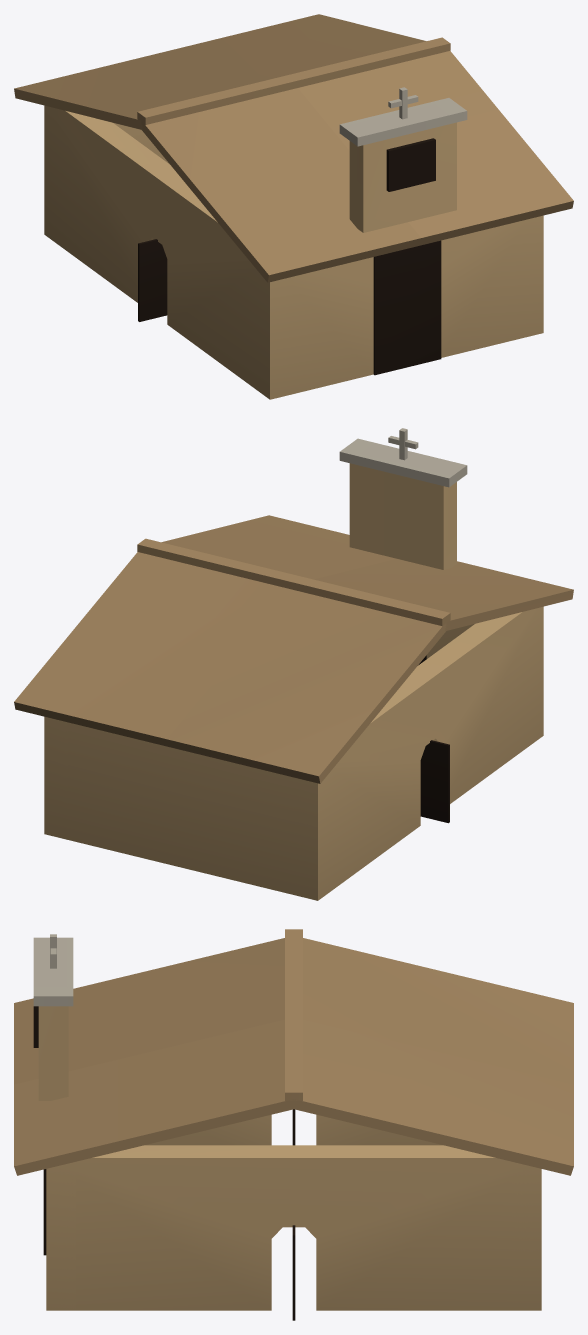
File: republic_chapel_lod1.glb
3 views of the same model, one above another, from view 1: azimuth 30°, elevation 25°; view 2: azimuth 150°, elevation 25°; view 3: azimuth 270°, elevation 25° (orthographic). The views are drawn at different scales.
Visible parts, largest first — view 1: GEO-Arch_republic_chapel_LOD1; view 2: GEO-Arch_republic_chapel_LOD1; view 3: GEO-Arch_republic_chapel_LOD1.
Part boxes in pixels (x1,y1,x2,y2): GEO-Arch_republic_chapel_LOD1: (14,14,573,399); GEO-Arch_republic_chapel_LOD1: (14,428,573,900); GEO-Arch_republic_chapel_LOD1: (14,929,573,1320).
Bounding box in the file's own units: 7.94 × 6.72 × 11.3.
